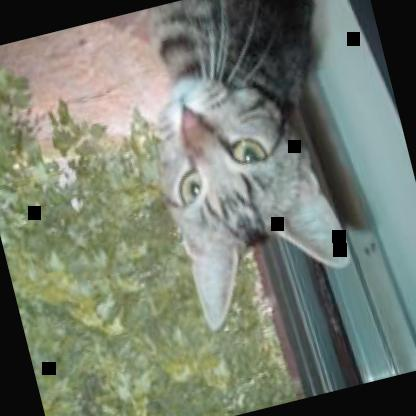cat: (116, 0, 413, 335)
